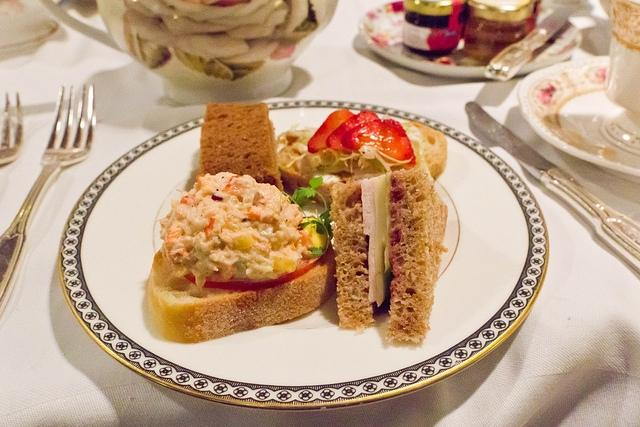strawberry: (341, 118, 416, 168), (326, 111, 380, 154), (307, 110, 356, 154), (426, 29, 458, 50)
